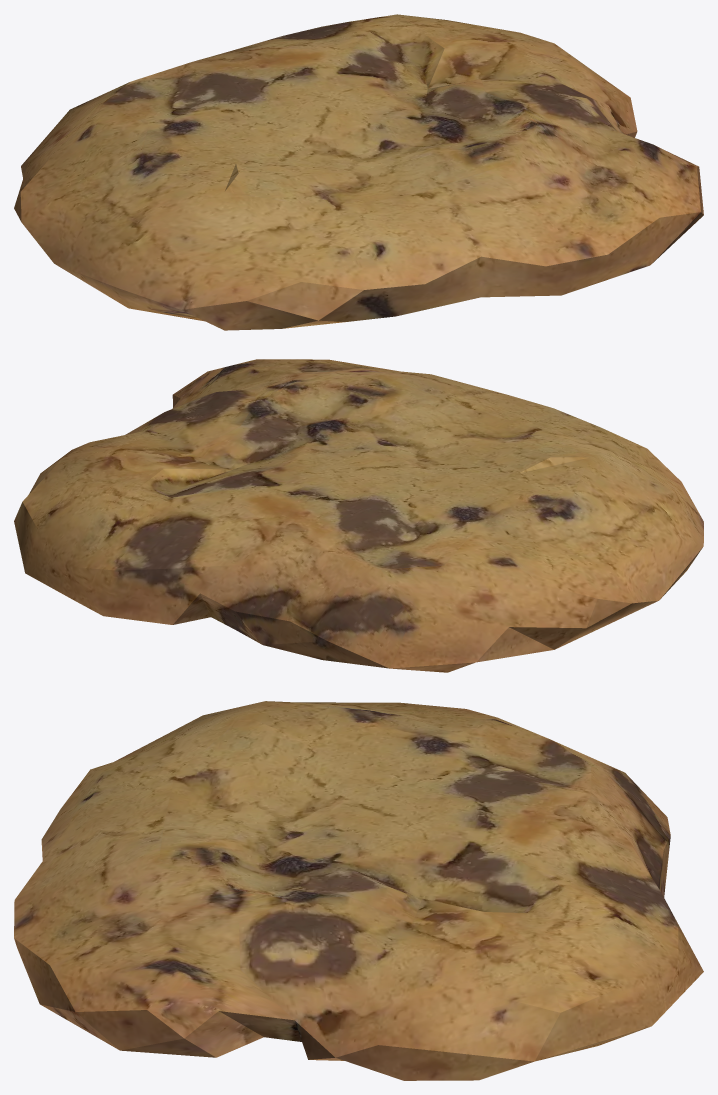
File: cookie.glb
3 renders of one model, top to bottom at view 1: azimuth 30°, elevation 25°; view 2: azimuth 150°, elevation 25°; view 3: azimuth 270°, elevation 25°, orthographic. The views are drawn at different scales.
Visible parts, largest first — view 1: 3DCookie002_LQ-1K-JPG; view 2: 3DCookie002_LQ-1K-JPG; view 3: 3DCookie002_LQ-1K-JPG.
Part boxes in pixels (bbox=[...]): 3DCookie002_LQ-1K-JPG: bbox=[14, 14, 703, 330]; 3DCookie002_LQ-1K-JPG: bbox=[14, 359, 703, 672]; 3DCookie002_LQ-1K-JPG: bbox=[14, 701, 703, 1080].
Size of the model in its own units: 0.1109 by 0.0183 by 0.0981.
1 material, 1 textured.
